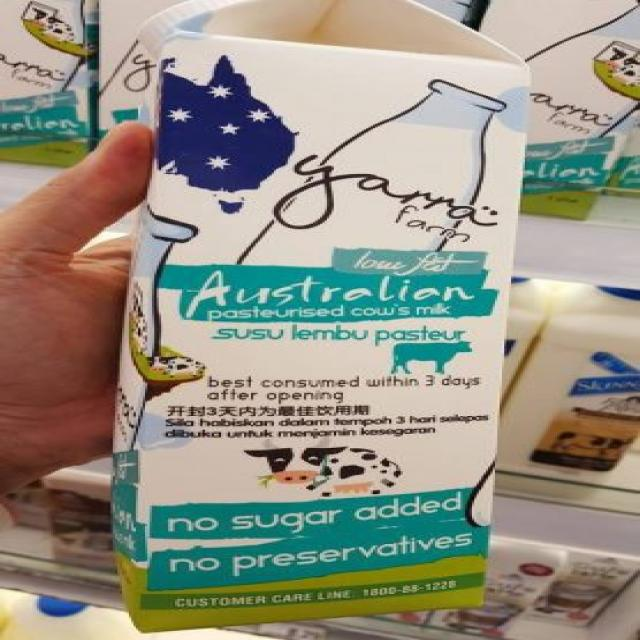cardboard: (119, 0, 510, 628)
